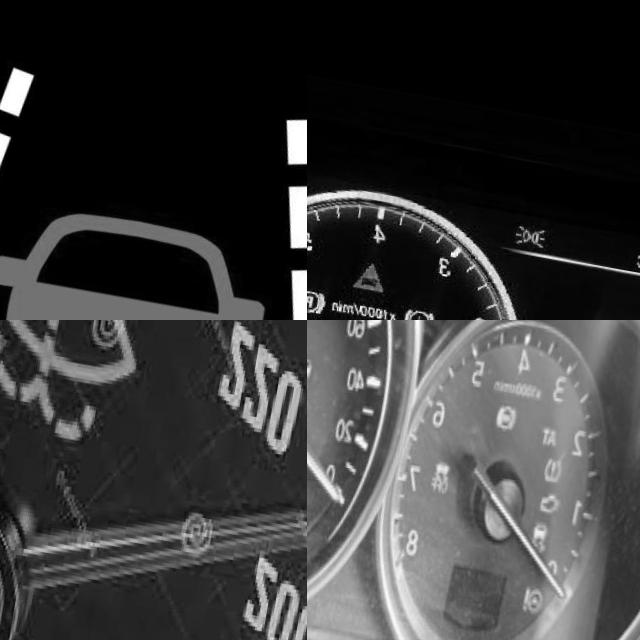Electronic Power Steering: (536, 565, 562, 598)
Washer Fluid: (0, 320, 168, 441)
